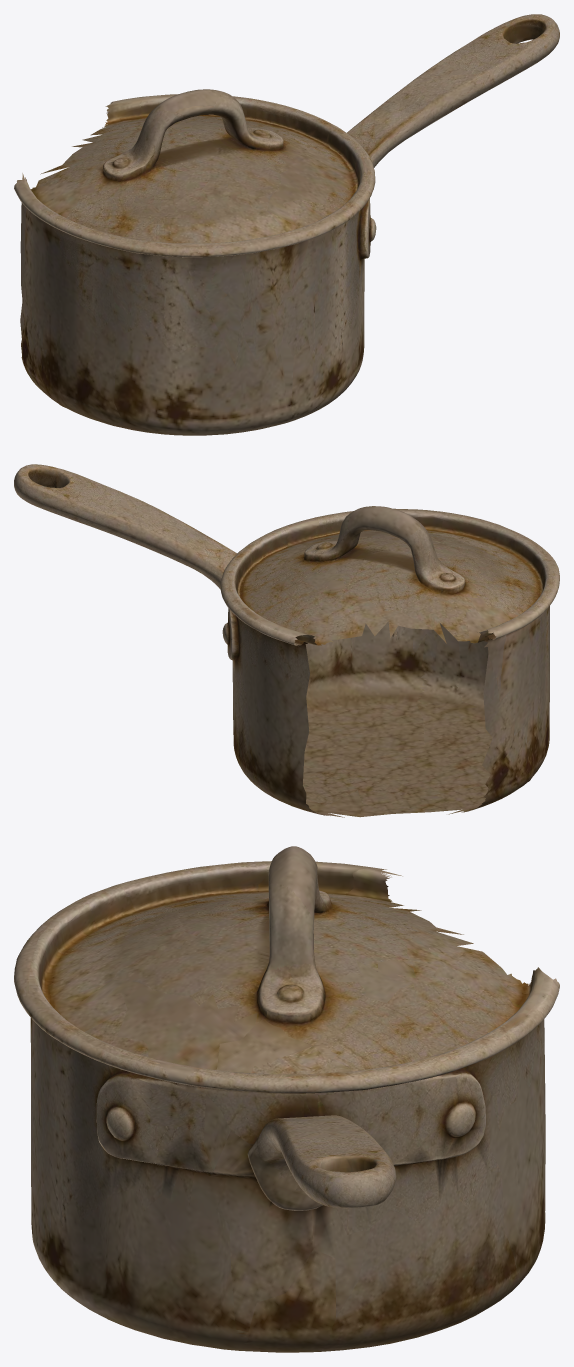
The model's file is d_stew_pot.glb.
The picture shows the model from 3 angles, top to bottom: view 1: azimuth 30°, elevation 25°; view 2: azimuth 150°, elevation 25°; view 3: azimuth 270°, elevation 25°; orthographic projection. The views are drawn at different scales.
Bounding box in the file's own units: 1.24 × 0.6035 × 0.7389.
1 material, 1 textured.
